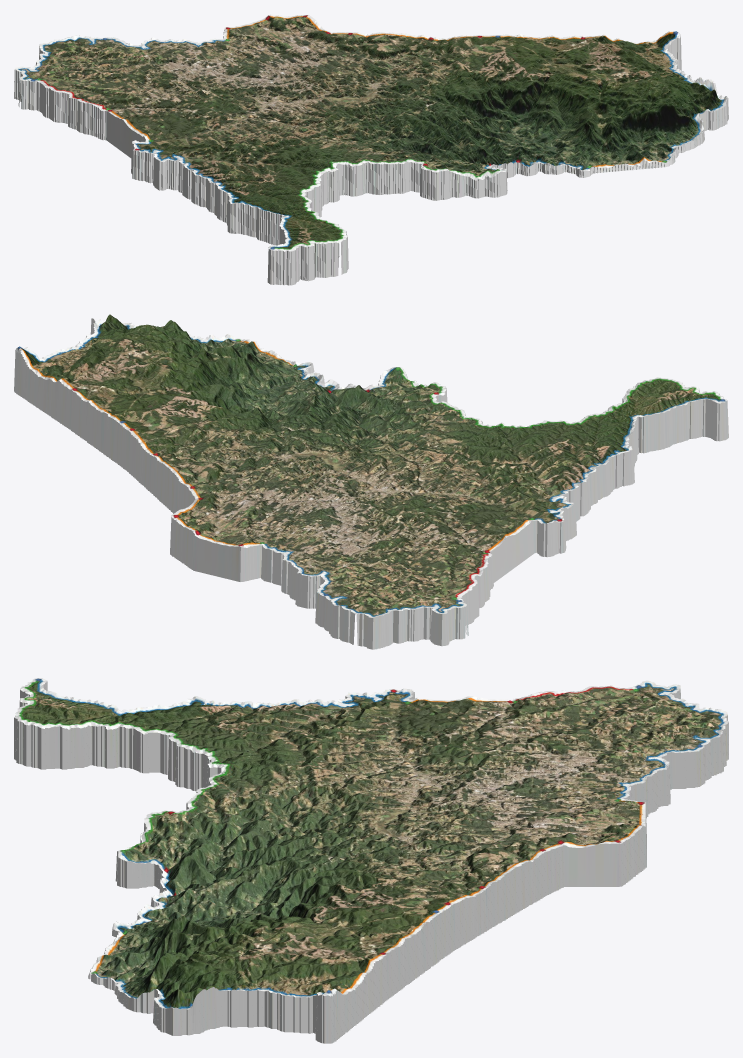
3 renders of one model, top to bottom at view 1: azimuth 30°, elevation 25°; view 2: azimuth 150°, elevation 25°; view 3: azimuth 270°, elevation 25°, orthographic. The views are drawn at different scales.
Size of the model in its own units: 1 by 0.0723 by 0.9225.
1 material, 1 textured.
